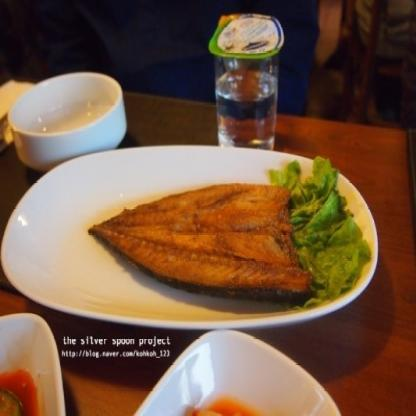Peixe: (82, 174, 314, 312)
